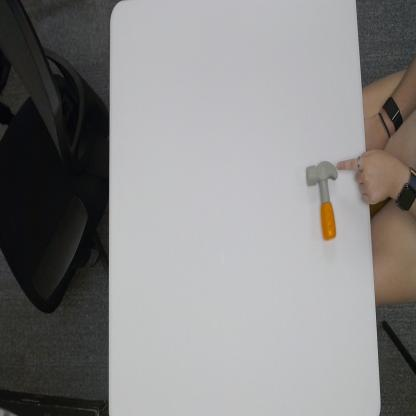Hammer: (306, 160, 338, 242)
Hand: (338, 145, 399, 210)
